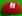red: (0, 0, 22, 16)
